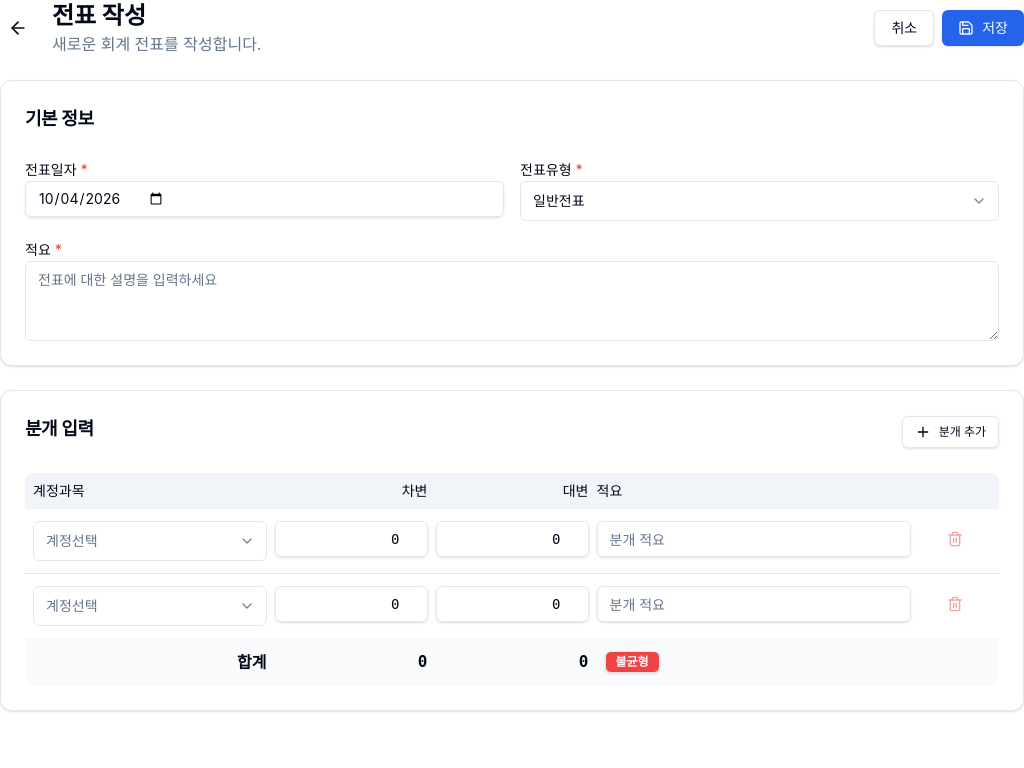
Test case: VoucherFormPage › form validation › should show error for empty description
Click the button "저장" at (983, 28), box [942, 10, 1023, 46]
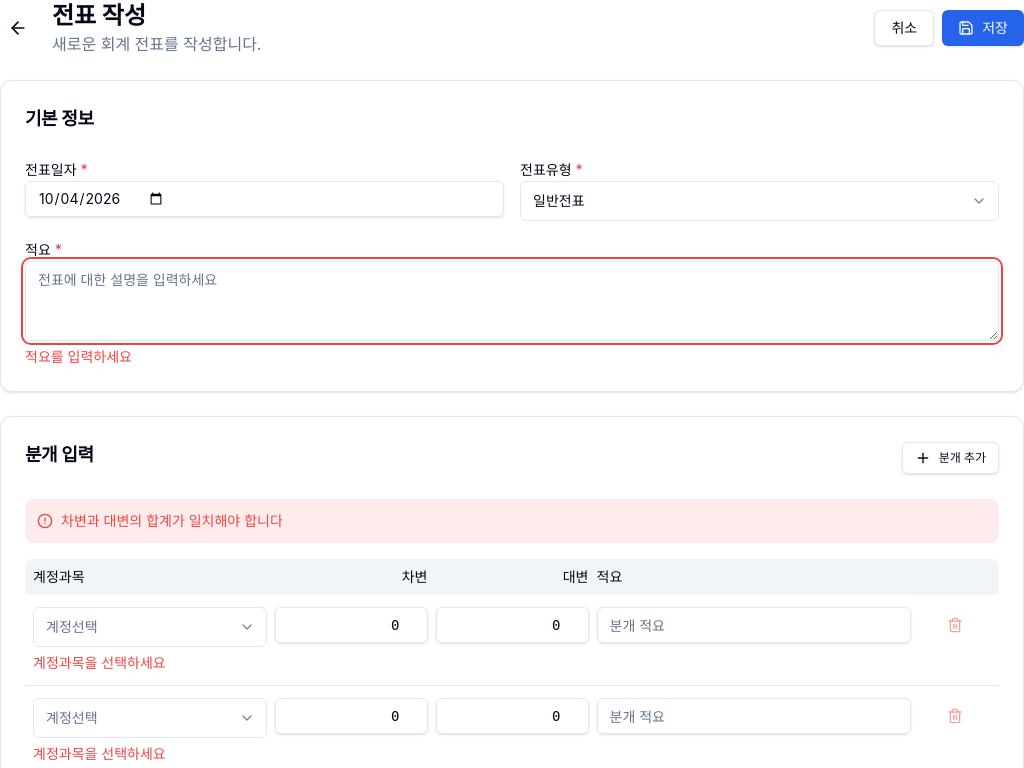
Result: the text "적요를 입력하세요" is shown at [25, 348, 132, 365]
